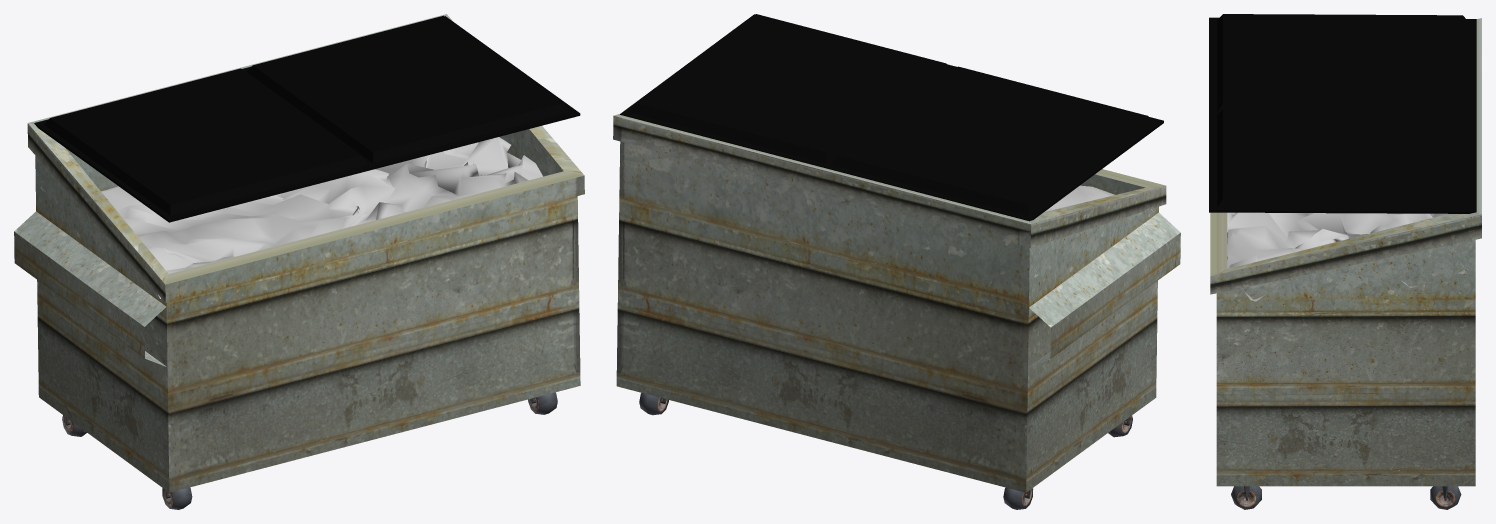
File: trash.fbx
3 renders of one model, left to right at view 1: azimuth 30°, elevation 25°; view 2: azimuth 150°, elevation 25°; view 3: azimuth 270°, elevation 25°, orthographic.
Visible parts, largest first — view 1: garbage.139; view 2: garbage.139; view 3: garbage.139.
Boxes of the visible parts, <box> form: garbage.139: <box>14,14,584,509</box>; garbage.139: <box>613,14,1180,509</box>; garbage.139: <box>1209,14,1481,509</box>.
Size of the model in its own units: 14.98 by 10.38 by 8.
